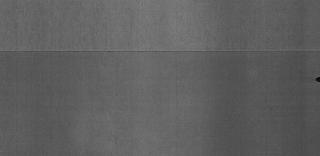punching hole: (316, 76, 320, 82)
